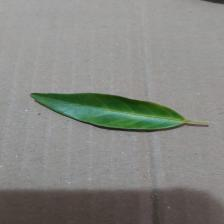greening: (88, 94, 189, 132)
